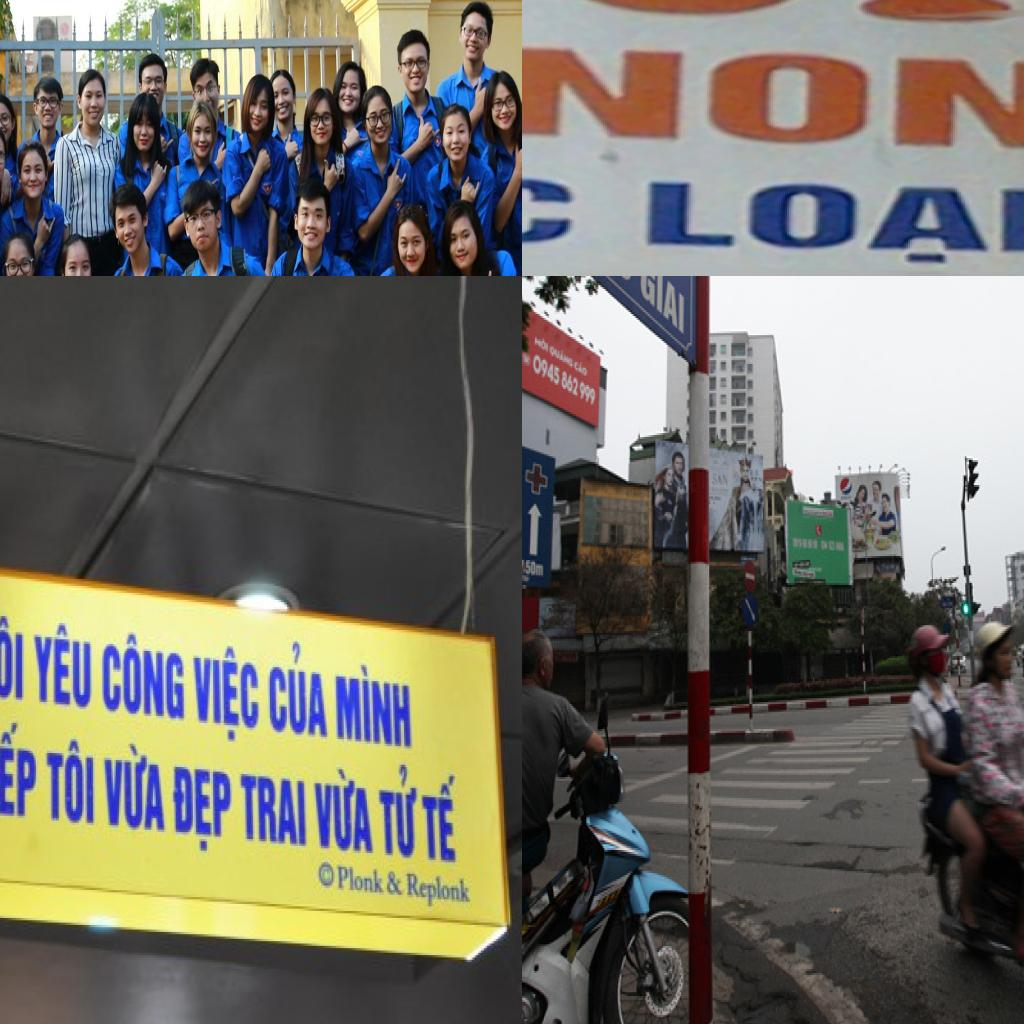text: (522, 32, 1024, 152), (643, 180, 1024, 266), (100, 625, 186, 723), (190, 639, 262, 751), (333, 660, 415, 751), (266, 634, 332, 742), (102, 737, 168, 837), (172, 762, 234, 860), (32, 618, 94, 714), (313, 764, 376, 858), (239, 772, 309, 850), (45, 732, 98, 830), (378, 760, 421, 862), (0, 718, 38, 825), (421, 774, 459, 867), (642, 276, 687, 339), (0, 611, 26, 704), (336, 862, 386, 897), (531, 352, 562, 389), (550, 341, 575, 372), (386, 867, 407, 899), (559, 368, 580, 398), (578, 379, 598, 410), (522, 556, 546, 581), (534, 334, 550, 356), (712, 470, 731, 487)
